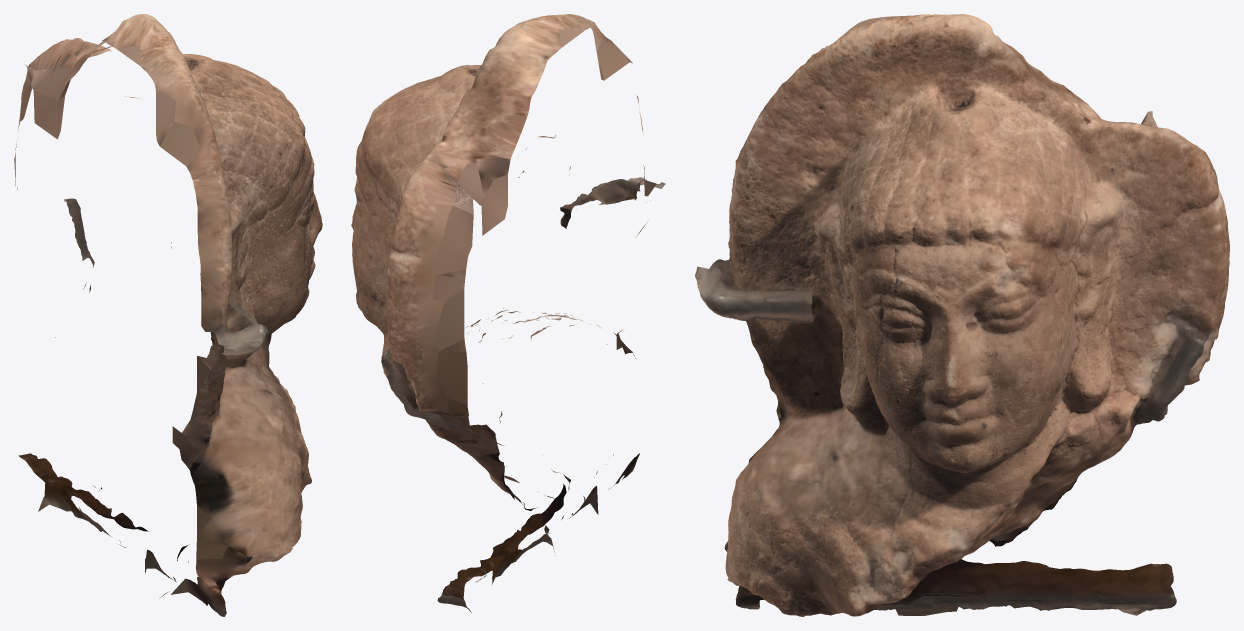
Rendered from head_of_buddha_statue.glb.
3 renders of one model, left to right at view 1: azimuth 30°, elevation 25°; view 2: azimuth 150°, elevation 25°; view 3: azimuth 270°, elevation 25°, orthographic. The views are drawn at different scales.
Parts seen in each view (by area): view 1: Object_4; view 2: Object_4; view 3: Object_4.
Boxes of the visible parts, bbox=[...] form: Object_4: bbox=[14, 14, 322, 616]; Object_4: bbox=[351, 14, 665, 612]; Object_4: bbox=[695, 14, 1229, 616].
Size of the model in its own units: 0.0747 by 0.1847 by 0.1444.
Materials: 1 (1 with a texture image).
